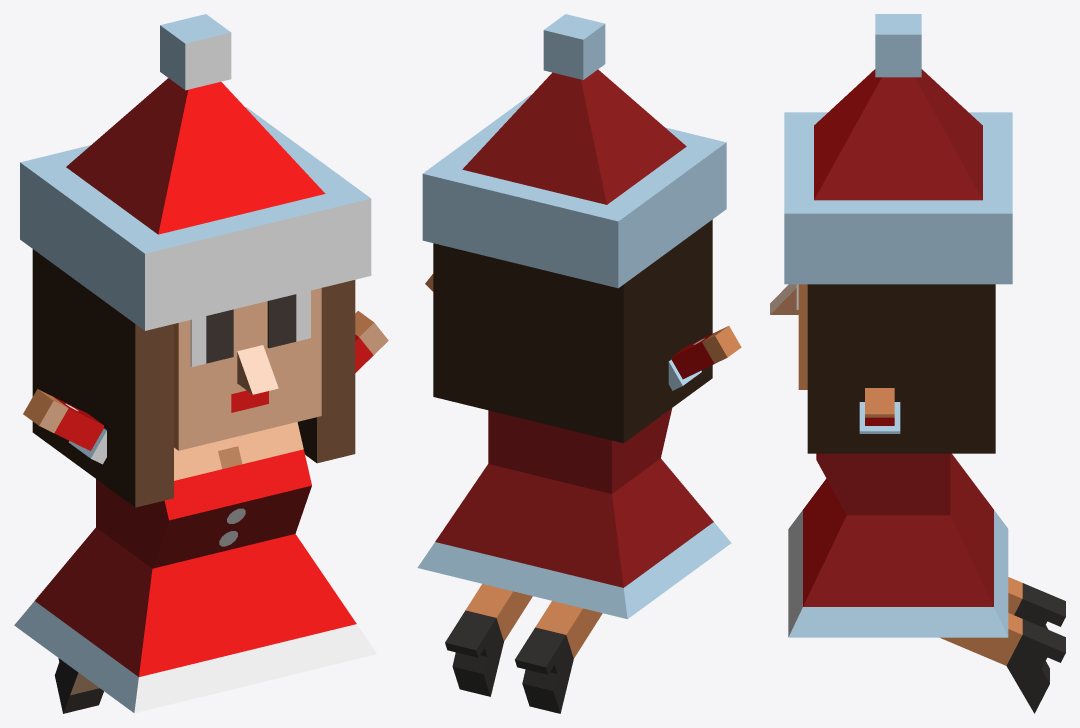
3 views of the same model, side by side, from view 1: azimuth 30°, elevation 25°; view 2: azimuth 150°, elevation 25°; view 3: azimuth 270°, elevation 25° (orthographic). The views are drawn at different scales.
Visible parts, largest first — view 1: Ch_177_Head, Ch_177, Ch_177_Chest, Ch_177_Eye_01, Ch_177_Hand_L, Ch_177_Leg_L, Ch_177_Hand_R; view 2: Ch_177_Head, Ch_177, Ch_177_Chest, Ch_177_Leg_R, Ch_177_Leg_L, Ch_177_Hand_L; view 3: Ch_177_Head, Ch_177, Ch_177_Chest, Ch_177_Leg_R, Ch_177_Leg_L, Ch_177_Hand_R.
Part boxes in pixels (x1,y1,x2,y2): Ch_177_Head: (20, 14, 371, 507); Ch_177: (14, 527, 376, 713); Ch_177_Chest: (96, 422, 311, 568); Ch_177_Eye_01: (190, 290, 310, 366); Ch_177_Hand_L: (23, 389, 106, 464); Ch_177_Leg_L: (54, 658, 103, 713); Ch_177_Hand_R: (355, 311, 388, 372); Ch_177_Head: (422, 14, 726, 443); Ch_177: (417, 458, 731, 619); Ch_177_Chest: (488, 408, 672, 493); Ch_177_Leg_R: (445, 584, 532, 696); Ch_177_Leg_L: (515, 601, 602, 713); Ch_177_Hand_L: (668, 326, 741, 390); Ch_177_Head: (770, 14, 1012, 453); Ch_177: (788, 453, 1008, 637); Ch_177_Chest: (816, 453, 950, 515); Ch_177_Leg_R: (940, 613, 1065, 713); Ch_177_Leg_L: (1008, 577, 1065, 629); Ch_177_Hand_R: (859, 388, 900, 433).
Bounding box in the file's own units: 6.26 × 12.41 × 5.01.
